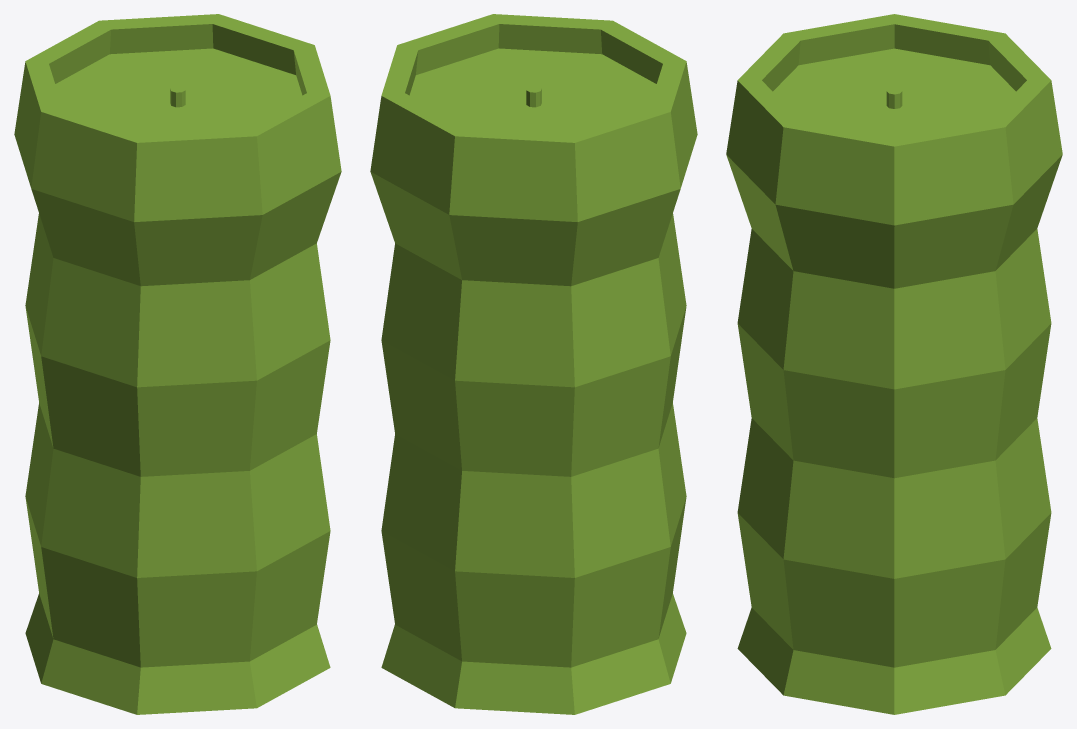
File: candelaverde.fbx
3 renders of one model, left to right at view 1: azimuth 30°, elevation 25°; view 2: azimuth 150°, elevation 25°; view 3: azimuth 270°, elevation 25°, orthographic.
Visible parts, largest first — view 1: Cylinder.006; view 2: Cylinder.006; view 3: Cylinder.006.
Boxes of the visible parts, box(x1,y1,x2,y2) form: Cylinder.006: box(14, 14, 341, 714); Cylinder.006: box(370, 14, 697, 714); Cylinder.006: box(726, 14, 1062, 714).
Bounding box in the file's own units: 10.2 × 19 × 10.2.
